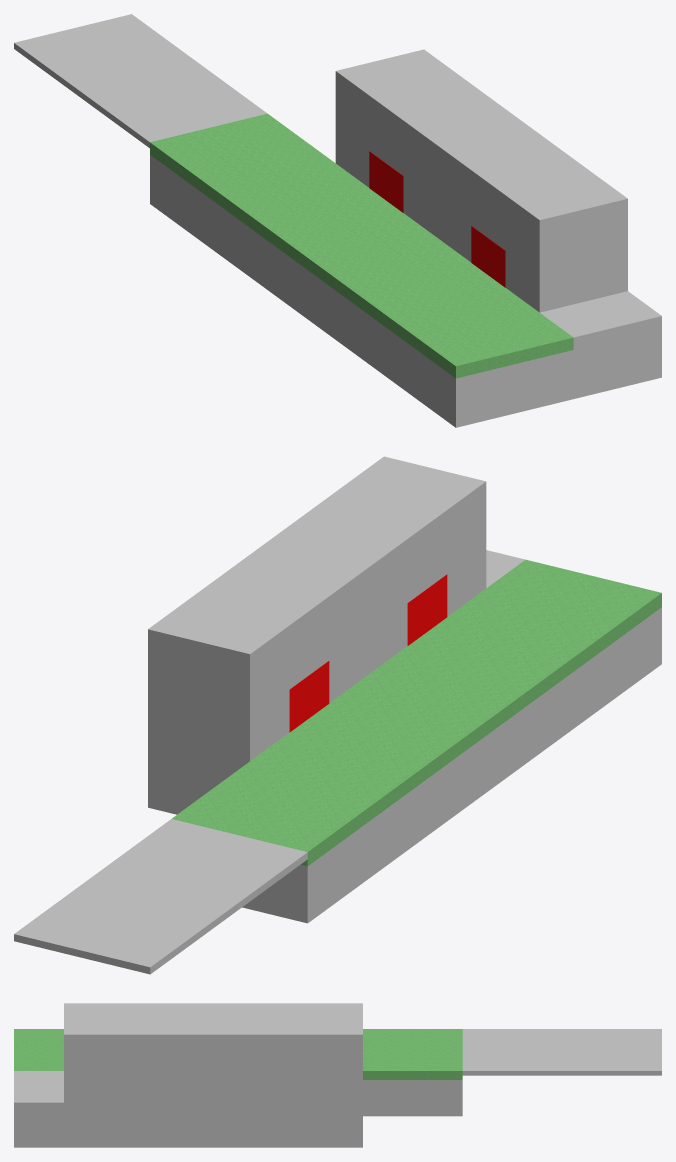
Rendered from IslandLayout.fbx.
3 views of the same model, one above another, from view 1: azimuth 30°, elevation 25°; view 2: azimuth 150°, elevation 25°; view 3: azimuth 270°, elevation 25° (orthographic). The views are drawn at different scales.
Parts seen in each view (by area): view 1: Warehouse_Graybox, Grass, Dirt_Patch, Boardwalk, Dirt_Patch__1_, Warehouse_Door__1_, Warehouse_Door; view 2: Warehouse_Graybox, Grass, Boardwalk, Dirt_Patch, Dirt_Patch__1_, Warehouse_Door, Warehouse_Door__1_; view 3: Warehouse_Graybox, Dirt_Patch__1_, Boardwalk, Grass, Dirt_Patch.
Boxes of the visible parts, left/top/right/bottom form: Warehouse_Graybox: left=335, top=49, right=627, bottom=312; Grass: left=150, top=113, right=573, bottom=378; Dirt_Patch: left=150, top=155, right=573, bottom=427; Boardwalk: left=14, top=14, right=267, bottom=147; Dirt_Patch__1_: left=540, top=291, right=661, bottom=398; Warehouse_Door__1_: left=471, top=226, right=505, bottom=287; Warehouse_Door: left=369, top=151, right=403, bottom=212; Warehouse_Graybox: left=148, top=456, right=486, bottom=760; Grass: left=172, top=559, right=661, bottom=866; Boardwalk: left=14, top=819, right=307, bottom=974; Dirt_Patch: left=242, top=607, right=661, bottom=923; Dirt_Patch__1_: left=148, top=550, right=525, bottom=814; Warehouse_Door: left=289, top=661, right=329, bottom=732; Warehouse_Door__1_: left=407, top=574, right=447, bottom=645; Warehouse_Graybox: left=64, top=1003, right=362, bottom=1102; Dirt_Patch__1_: left=14, top=1071, right=362, bottom=1147; Boardwalk: left=462, top=1029, right=661, bottom=1075; Grass: left=14, top=1029, right=462, bottom=1079; Dirt_Patch: left=363, top=1080, right=462, bottom=1116.
Size of the model in its own units: 3500 by 2500 by 13000.
